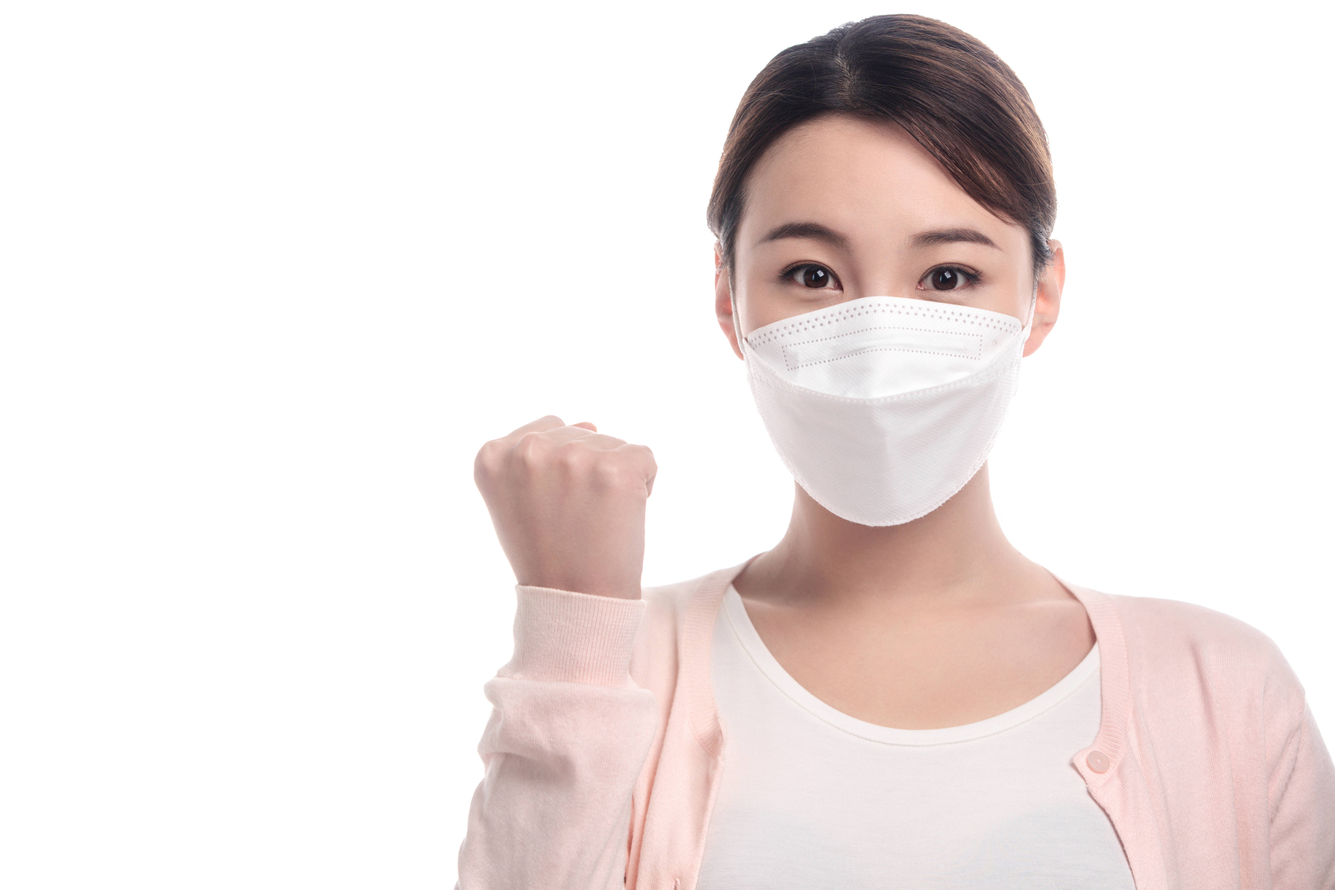with_mask: (706, 12, 1070, 530)
